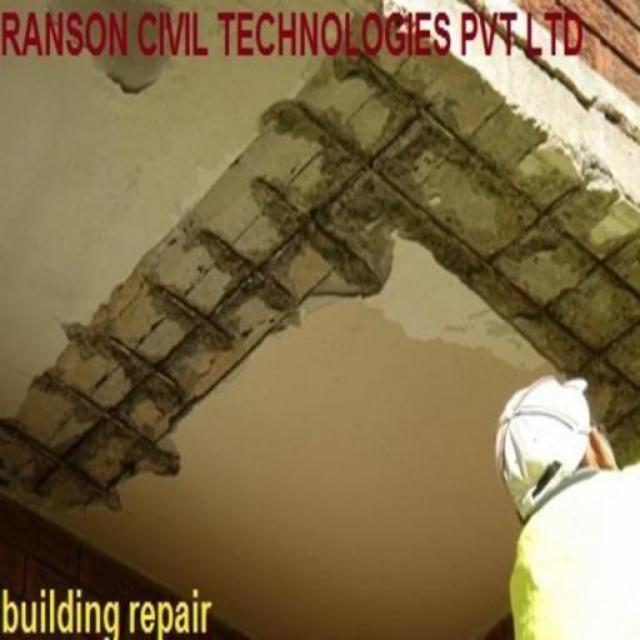D0w0: (18, 58, 639, 505)
